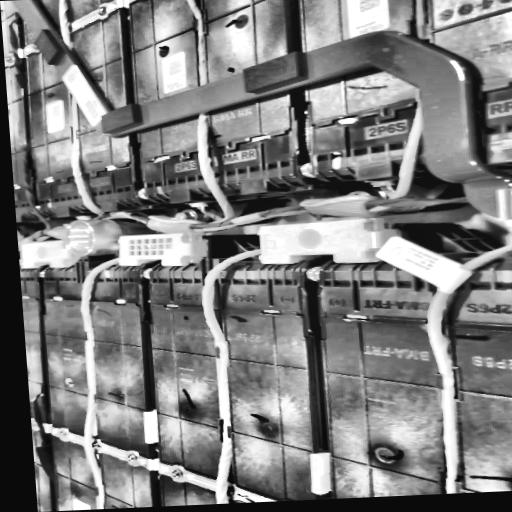busbar: (3, 0, 512, 223)
high_volt_cable: (17, 0, 433, 249), (192, 215, 396, 504), (72, 233, 199, 510), (424, 242, 512, 494)
